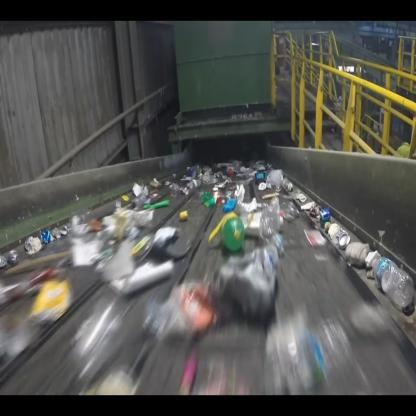Glass Bottle: (287, 317, 351, 383), (371, 257, 414, 308), (260, 200, 284, 254), (219, 213, 245, 253), (279, 200, 300, 222), (201, 190, 215, 207)
